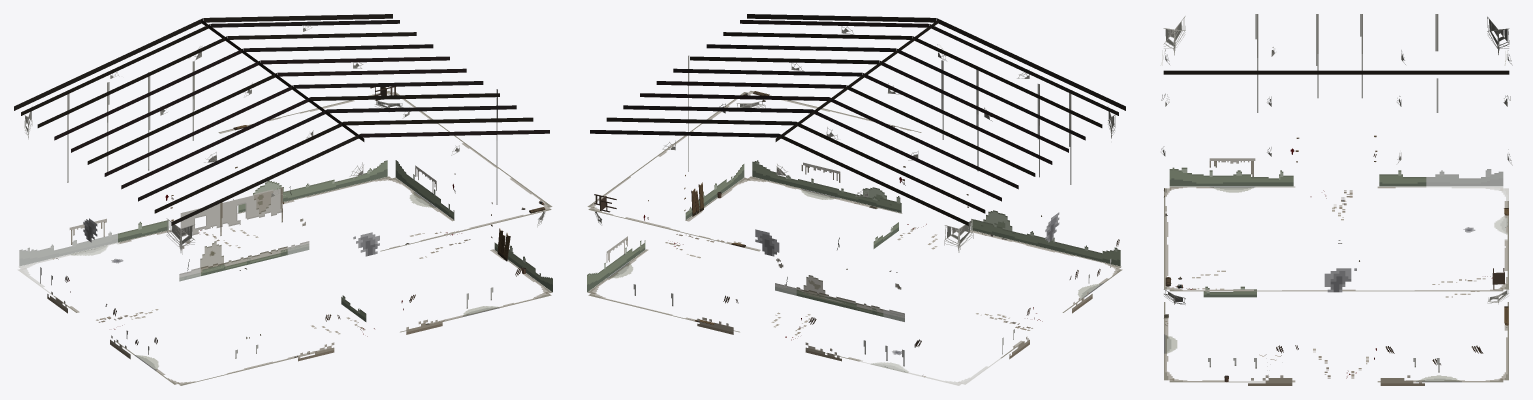
File: cabin.glb
3 renders of one model, left to right at view 1: azimuth 30°, elevation 25°; view 2: azimuth 150°, elevation 25°; view 3: azimuth 270°, elevation 25°, orthographic. The views are drawn at different scales.
Visible parts, largest first — view 1: Dress_Core_prop, Dress_Core_grime, Dress_Full_grime, Dress_Core_web; view 2: Dress_Core_prop, Dress_Core_grime, Dress_Full_grime, Dress_Core_web; view 3: Dress_Core_grime, Dress_Core_prop, Dress_Core_web, Dress_Full_prop.
Part boxes in pixels (box(x1,y1,x2,y2)): Dress_Core_prop: box(14, 14, 549, 261); Dress_Core_grime: box(17, 61, 552, 385); Dress_Full_grime: box(111, 187, 365, 334); Dress_Core_web: box(24, 62, 545, 254); Dress_Core_prop: box(590, 14, 1125, 225); Dress_Core_grime: box(587, 55, 1122, 385); Dress_Full_grime: box(771, 227, 937, 355); Dress_Core_web: box(595, 63, 1115, 252); Dress_Core_grime: box(1164, 14, 1508, 385); Dress_Core_prop: box(1163, 70, 1509, 360); Dress_Core_web: box(1163, 16, 1509, 304); Dress_Full_prop: box(1164, 188, 1508, 325).
Bounding box in the file's own units: 16.36 × 8.08 × 12.36.
